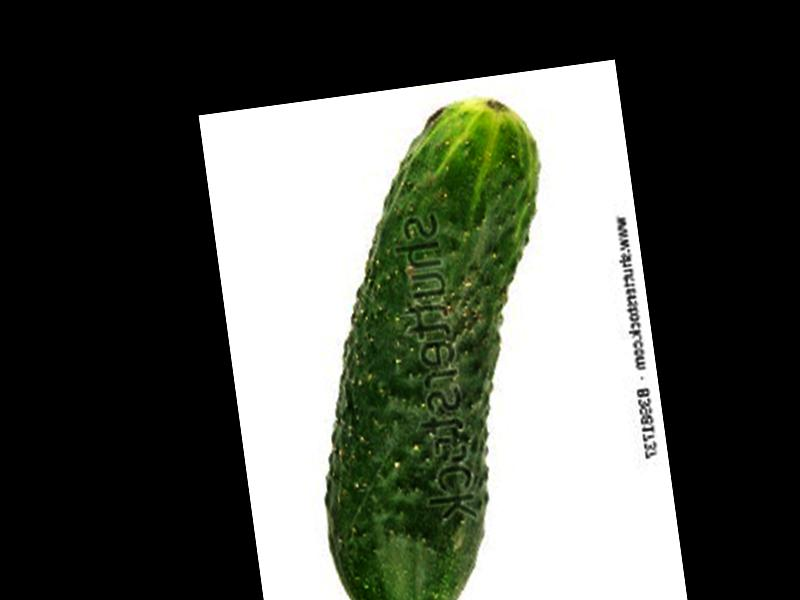Cucumber: (273, 93, 597, 600)
